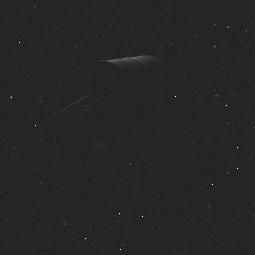double_start: (66, 48, 192, 147)
